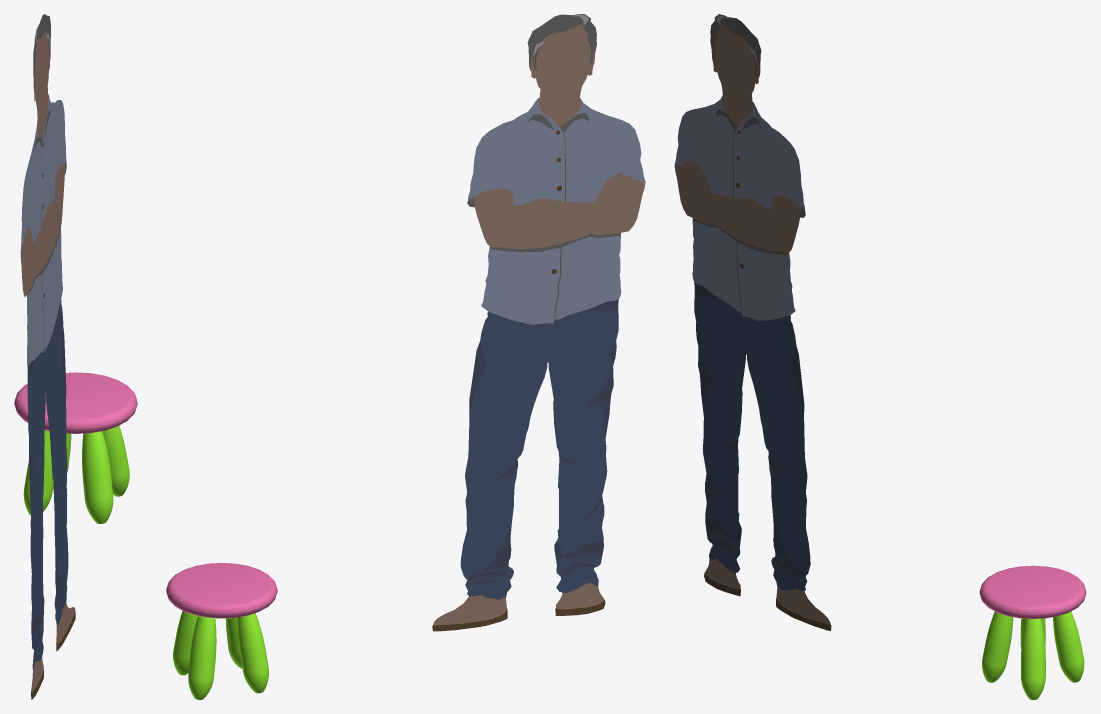
Rendered from small_chair_pink.fbx.
The picture shows the model from 3 angles, left to right: view 1: azimuth 30°, elevation 25°; view 2: azimuth 150°, elevation 25°; view 3: azimuth 270°, elevation 25°; orthographic projection. The views are drawn at different scales.
Parts seen in each view (by area): view 1: Niraj1, skeB1A1_1; view 2: Niraj1, skeB1A1_1; view 3: Niraj1, skeB1A1_1.
Boxes of the visible parts, bbox=[...] form: Niraj1: bbox=[20, 14, 75, 699]; skeB1A1_1: bbox=[14, 372, 137, 523]; Niraj1: bbox=[432, 14, 645, 631]; skeB1A1_1: bbox=[166, 563, 277, 699]; Niraj1: bbox=[674, 14, 831, 630]; skeB1A1_1: bbox=[979, 565, 1086, 699].
Bounding box in the file's own units: 34.9 × 70.5 × 45.52.
